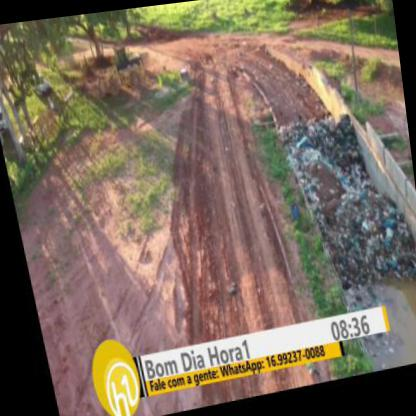agua: (376, 289, 415, 375)
lixo: (314, 192, 410, 292), (283, 121, 359, 204)
